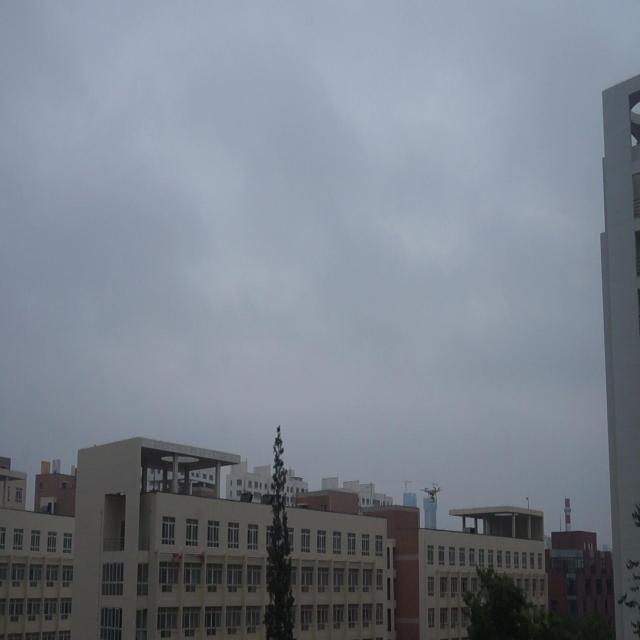drone: (421, 483, 446, 508)
